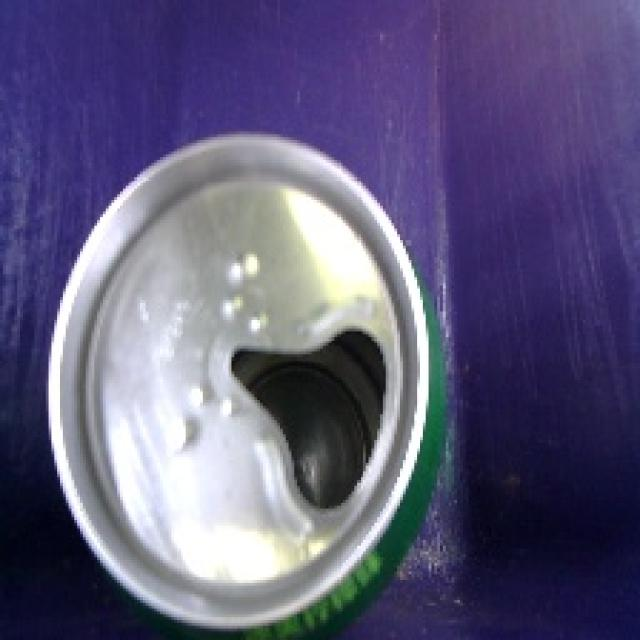metal: (30, 113, 460, 640)
